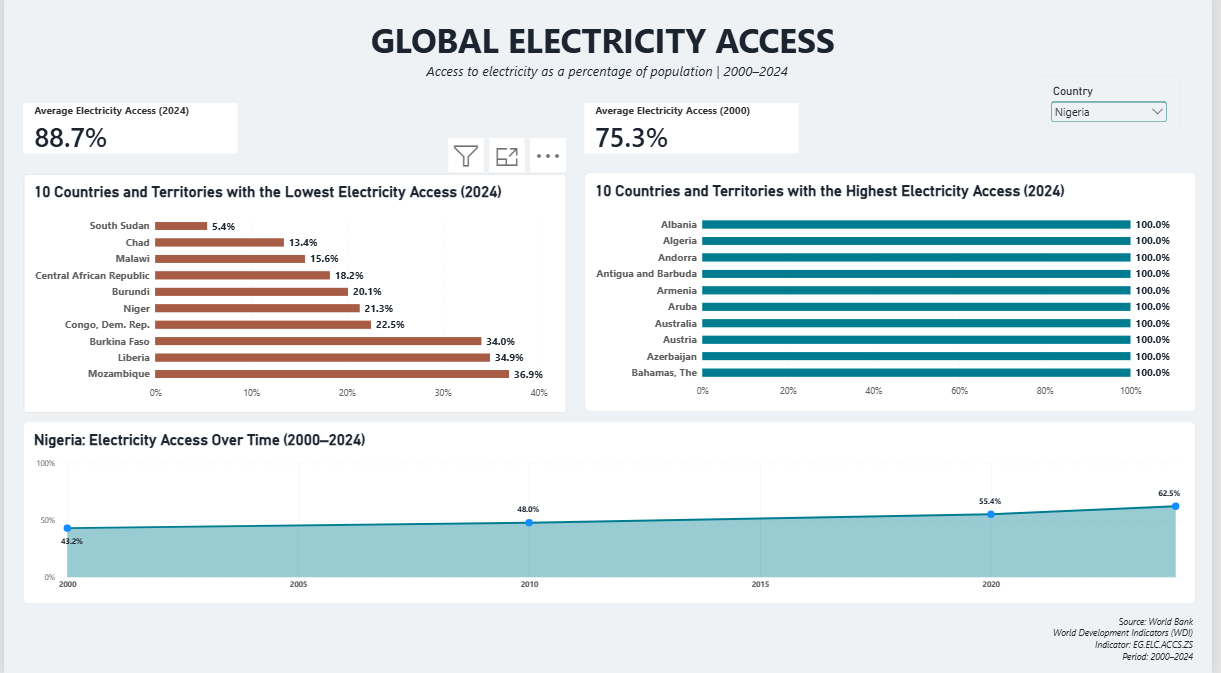

What the dashboard file says about the page in this screenshot:
{"tool":"powerbi","page":{"name":"Electricity Access Dashboard","canvas":[1920,1080],"ordinal":0},"visuals":[{"type":"cardVisual","fields":{"Data":["Avg(public electricity_access_analysis.electricity_access_2024)"]},"box":[30,175.3,340.2,79.4],"z":0},{"type":"clusteredBarChart","title":"10 Countries and Territories with the Lowest Electricity Access (2024)","fields":{"Category":["public electricity_access_analysis.country_name"],"Y":["Avg(public electricity_access_analysis.electricity_access_2024)"]},"box":[30,285.8,864.6,379.8],"z":1000},{"type":"slicer","fields":{"Values":["public electricity_access_analysis.country_name"]},"box":[1645,130,226.8,87.9],"z":2000},{"type":"lineChart","fields":{"Category":["Electricity Trend.Year"],"Y":["Avg(Electricity Trend.Electricity Access (%))"]},"box":[31,679.2,1864,290],"z":3000},{"type":"clusteredBarChart","title":"10 Countries and Territories with the Highest Electricity Access (2024)","fields":{"Category":["public electricity_access_analysis.country_name"],"Y":["Avg(public electricity_access_analysis.electricity_access_2024)"]},"box":[923.6,285,972.5,380],"z":4000},{"type":"textbox","box":[0,36.9,1919.1,124.7],"z":5000},{"type":"cardVisual","fields":{"Data":["Avg(public electricity_access_analysis.electricity_access_2000)"]},"box":[922.5,175,340.2,79.4],"z":6000},{"type":"textbox","box":[1628,988,264,92],"z":7000}]}

Visuals, with their boxes in screenshot pixels (x1, y1, x2, y2), scaled from the page's 1920x1080 canvas onto the 1221x673 screenshot:
cardVisual - Avg(public electricity_access_analysis.electricity_access_2024): bbox=(19, 109, 235, 159)
"10 Countries and Territories with the Lowest Electricity Access (2024)" clusteredBarChart: bbox=(19, 178, 569, 415)
slicer - public electricity_access_analysis.country_name: bbox=(1046, 81, 1190, 136)
lineChart - Electricity Trend.Year x Avg(Electricity Trend.Electricity Access (%)): bbox=(20, 423, 1205, 604)
"10 Countries and Territories with the Highest Electricity Access (2024)" clusteredBarChart: bbox=(587, 178, 1206, 414)
textbox: bbox=(0, 23, 1220, 101)
cardVisual - Avg(public electricity_access_analysis.electricity_access_2000): bbox=(587, 109, 803, 159)
textbox: bbox=(1035, 616, 1203, 672)
